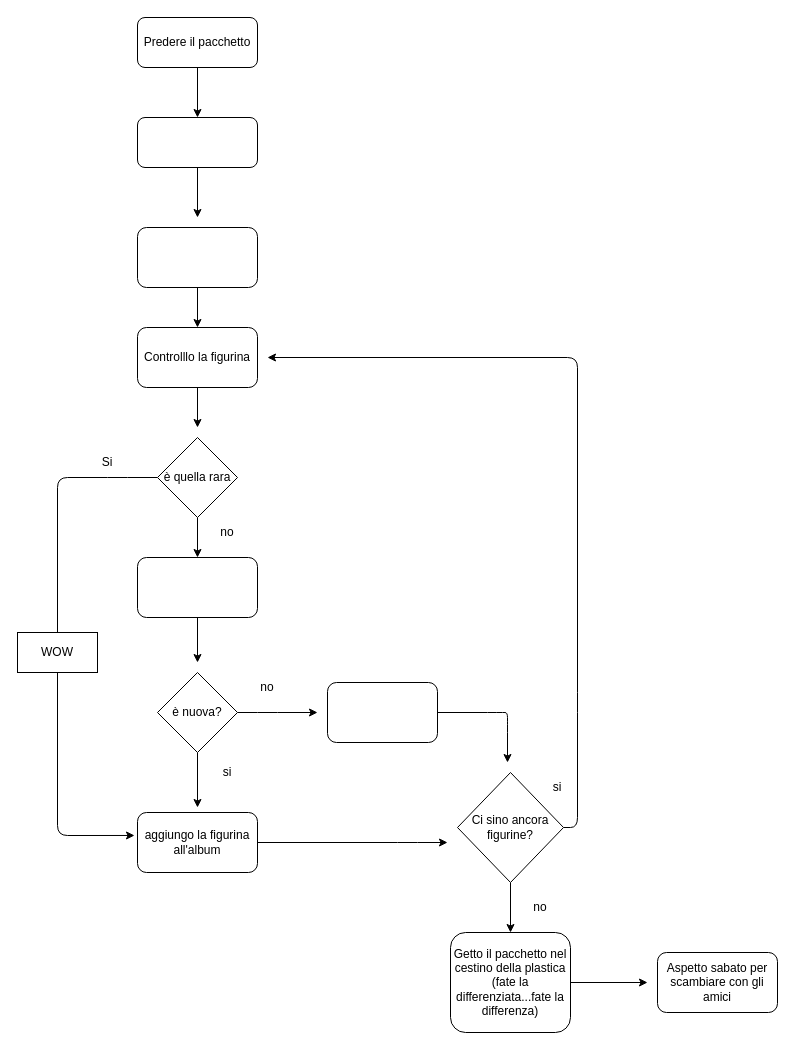
Image size: 795x1050. Some labels were removed from this diagram. Here are the shapes that lost their labels. From the top down, the box of each, then its label:
(136, 116, 258, 168): aprire il pacchetto
(136, 226, 258, 288): sfilo le figurine dal pacchetto
(136, 556, 258, 618): controllo l'album
(326, 682, 438, 742): La metto nel mazzo dei doppioni
